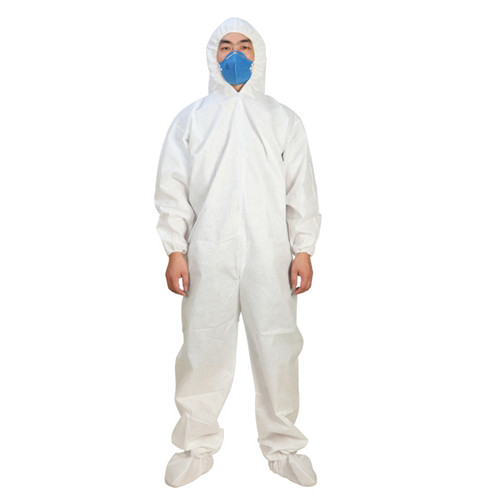Gloves: (154, 14, 323, 454)
with_mask: (217, 52, 256, 86)
